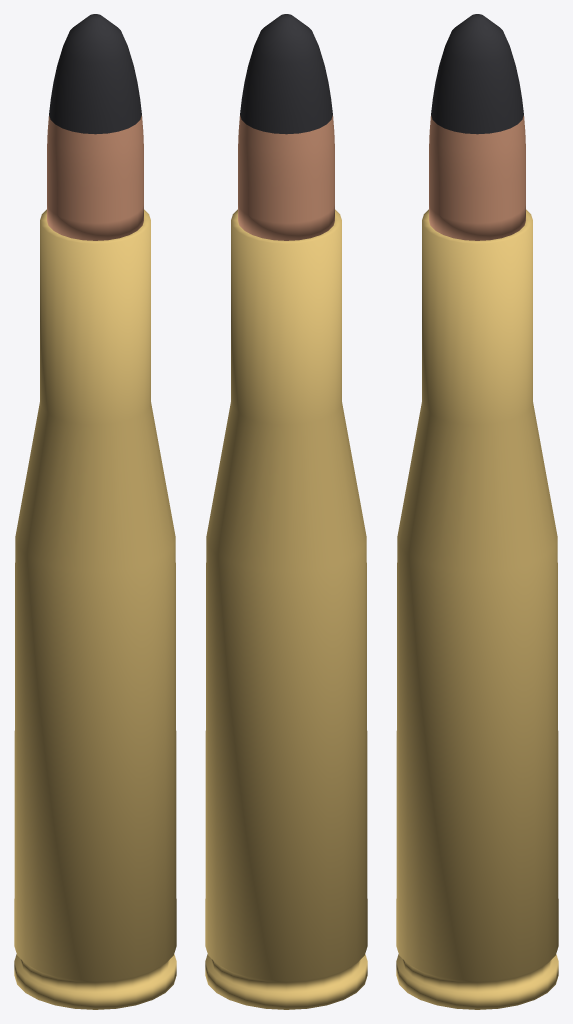
The picture shows the model from 3 angles, left to right: view 1: azimuth 30°, elevation 25°; view 2: azimuth 150°, elevation 25°; view 3: azimuth 270°, elevation 25°; orthographic projection.
Parts seen in each view (by area): view 1: vaina, bala_cuerpo, punta; view 2: vaina, bala_cuerpo, punta; view 3: vaina, bala_cuerpo, punta.
Part boxes in pixels (bbox=[...]): vaina: bbox=[14, 209, 176, 1009]; bala_cuerpo: bbox=[47, 115, 143, 240]; punta: bbox=[49, 14, 141, 134]; vaina: bbox=[205, 209, 367, 1009]; bala_cuerpo: bbox=[238, 115, 334, 240]; punta: bbox=[240, 14, 332, 134]; vaina: bbox=[396, 209, 558, 1009]; bala_cuerpo: bbox=[429, 115, 525, 240]; punta: bbox=[431, 14, 523, 134].
Size of the model in its own units: 0.013 by 0.0848 by 0.013.
